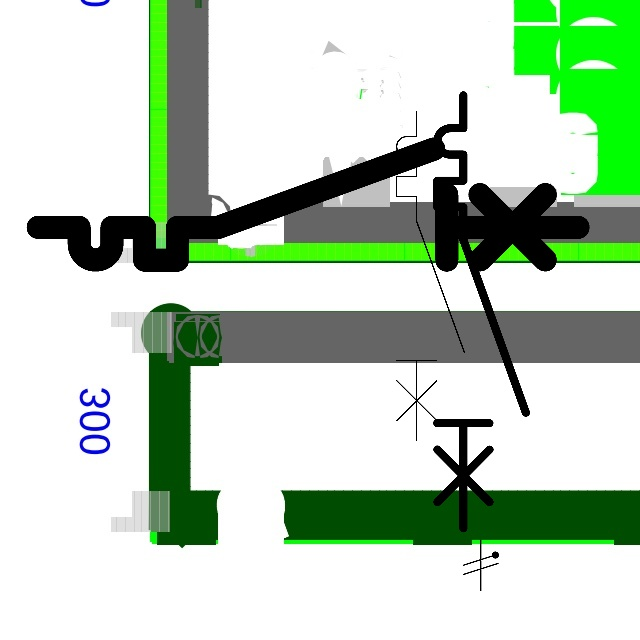interruptor_termomagnetico: (24, 135, 591, 274), (426, 84, 537, 539), (388, 103, 472, 449)
